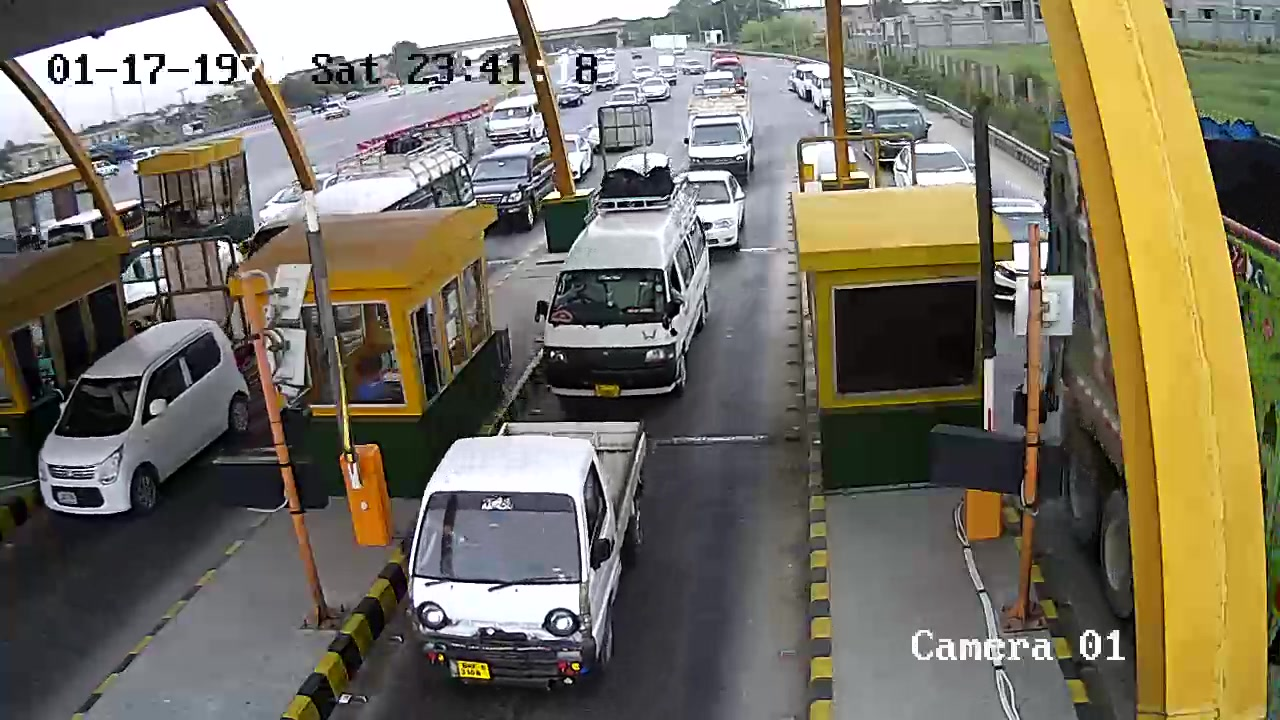F1: (413, 411, 661, 696)
F2: (541, 156, 719, 405)
